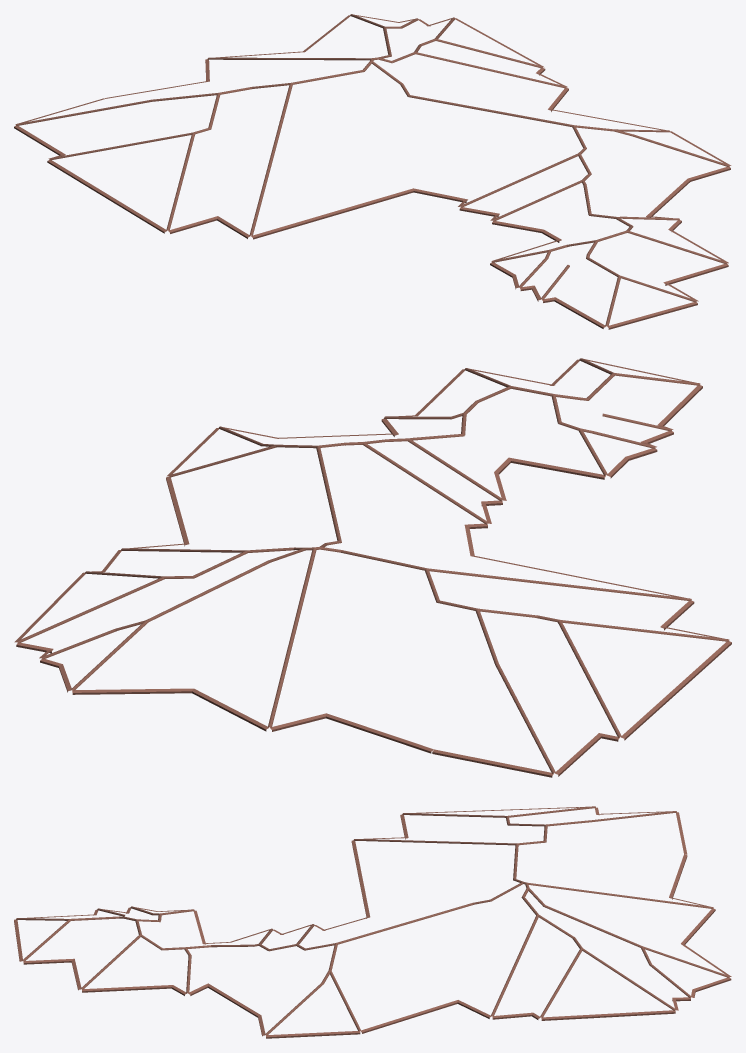
The picture shows the model from 3 angles, top to bottom: view 1: azimuth 30°, elevation 25°; view 2: azimuth 150°, elevation 25°; view 3: azimuth 270°, elevation 25°; orthographic projection. The views are drawn at different scales.
Visible parts, largest first — view 1: detail; view 2: detail; view 3: detail.
Part boxes in pixels (x1,y1,x2,y2): detail: [14, 14, 731, 329]; detail: [14, 358, 731, 777]; detail: [14, 806, 731, 1038].
Size of the model in its own units: 51.07 by 5.94 by 67.13.
